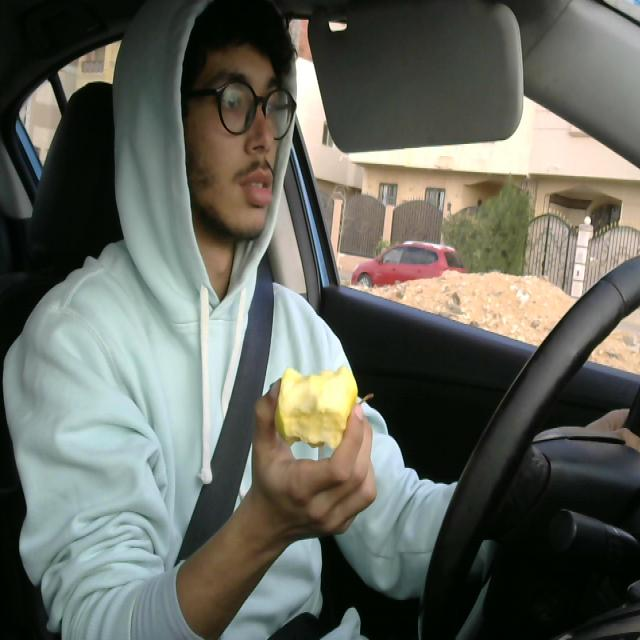eating: (263, 357, 369, 448)
